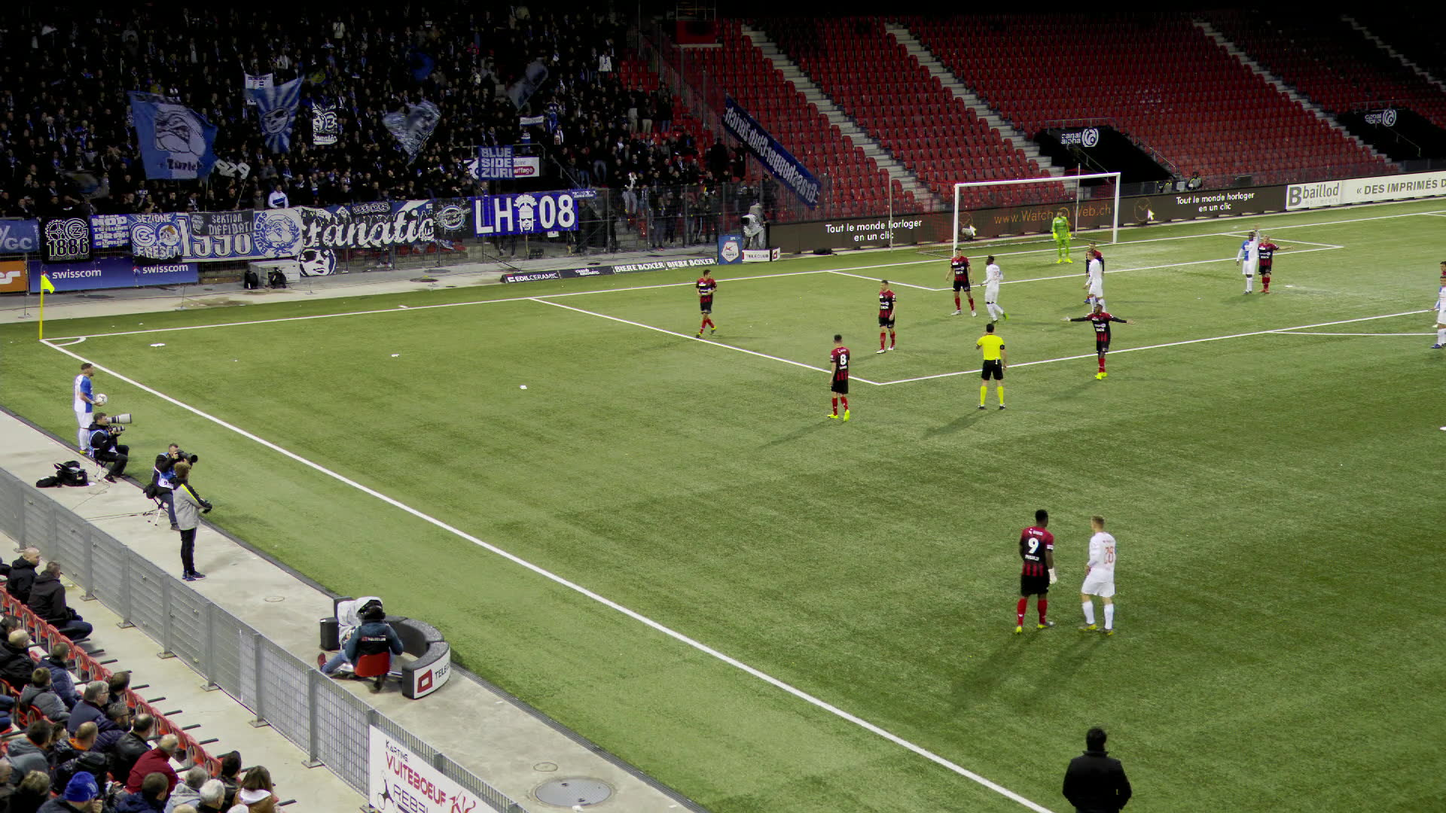ball: (94, 393, 107, 406)
player: (1066, 516, 1117, 638), (1014, 509, 1057, 636), (1066, 303, 1129, 379), (821, 333, 853, 422), (73, 363, 100, 454), (1256, 235, 1294, 293), (981, 253, 1011, 325), (946, 248, 975, 315), (871, 279, 897, 353), (1234, 224, 1260, 295), (693, 271, 717, 339), (1081, 250, 1104, 315), (1082, 242, 1103, 304), (1051, 210, 1072, 263), (1432, 276, 1444, 347), (1432, 260, 1444, 276)
referee: (974, 323, 1007, 410)
